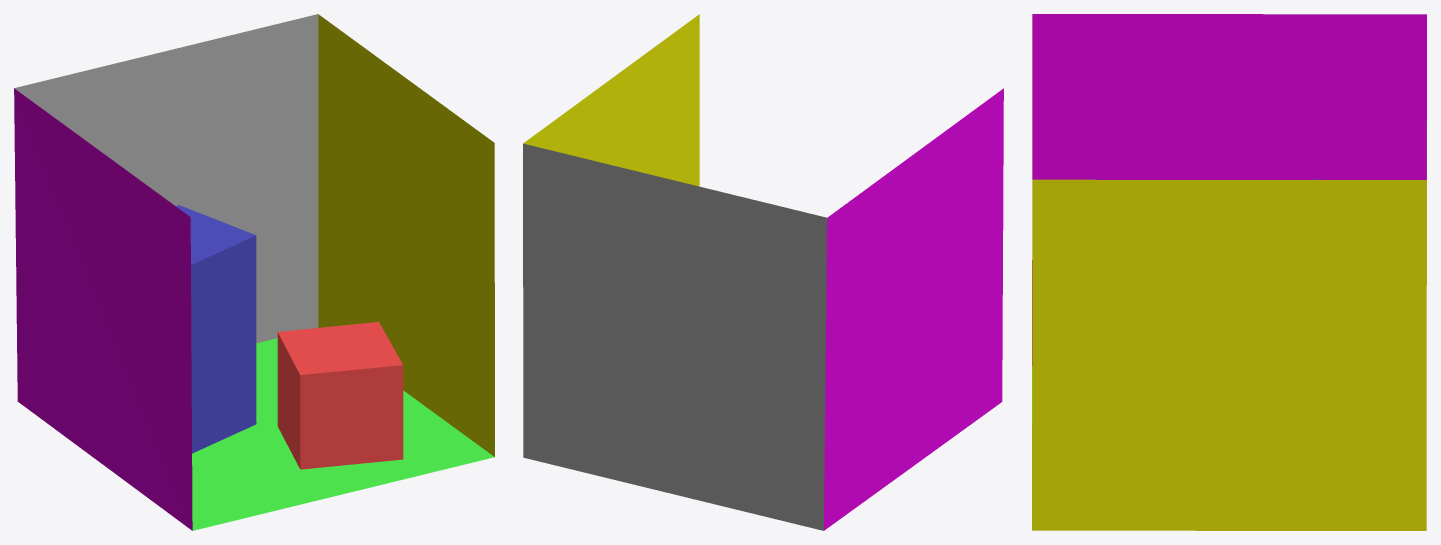
File: cornell-box-no-celling.obj
The picture shows the model from 3 angles, left to right: view 1: azimuth 30°, elevation 25°; view 2: azimuth 150°, elevation 25°; view 3: azimuth 270°, elevation 25°; orthographic projection. The views are drawn at different scales.
Visible parts, largest first — view 1: left_wall, right_wall, back_wall, floor, short_box, tall_box; view 2: back_wall, left_wall, right_wall; view 3: right_wall, left_wall.
Part boxes in pixels (<box>): left_wall: <box>14,88,192,530</box>; right_wall: <box>318,14,494,456</box>; back_wall: <box>14,14,318,343</box>; floor: <box>192,338,494,530</box>; short_box: <box>277,322,403,469</box>; tall_box: <box>176,205,256,453</box>; back_wall: <box>523,143,827,530</box>; left_wall: <box>824,88,1003,530</box>; right_wall: <box>523,14,699,186</box>; right_wall: <box>1032,179,1426,530</box>; left_wall: <box>1032,14,1426,365</box>.
Size of the model in its own units: 5.56 by 5.49 by 5.6.
